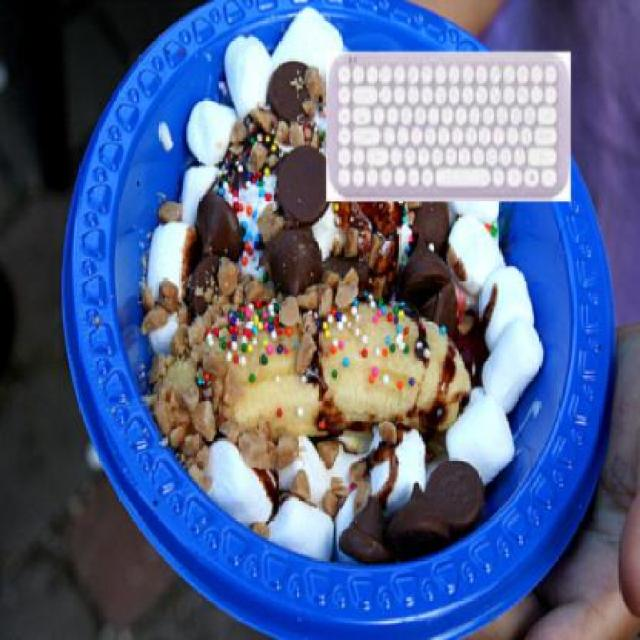keyboard: (321, 49, 574, 210)
